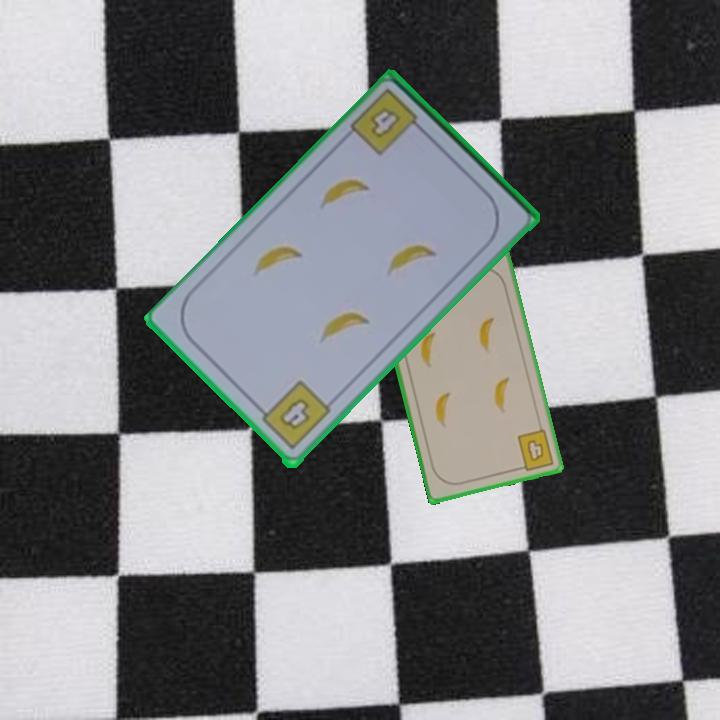4b: (253, 377, 334, 453), (514, 426, 557, 473), (366, 104, 400, 142)
